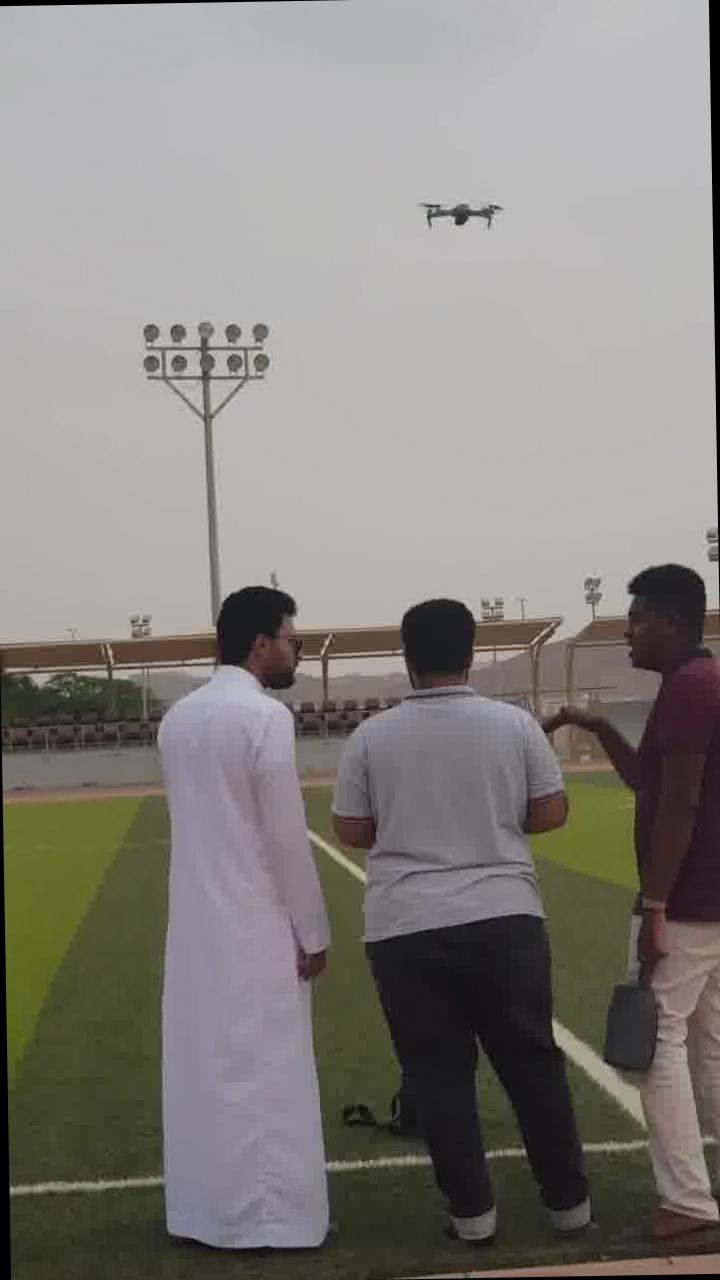drone: (410, 186, 502, 234)
